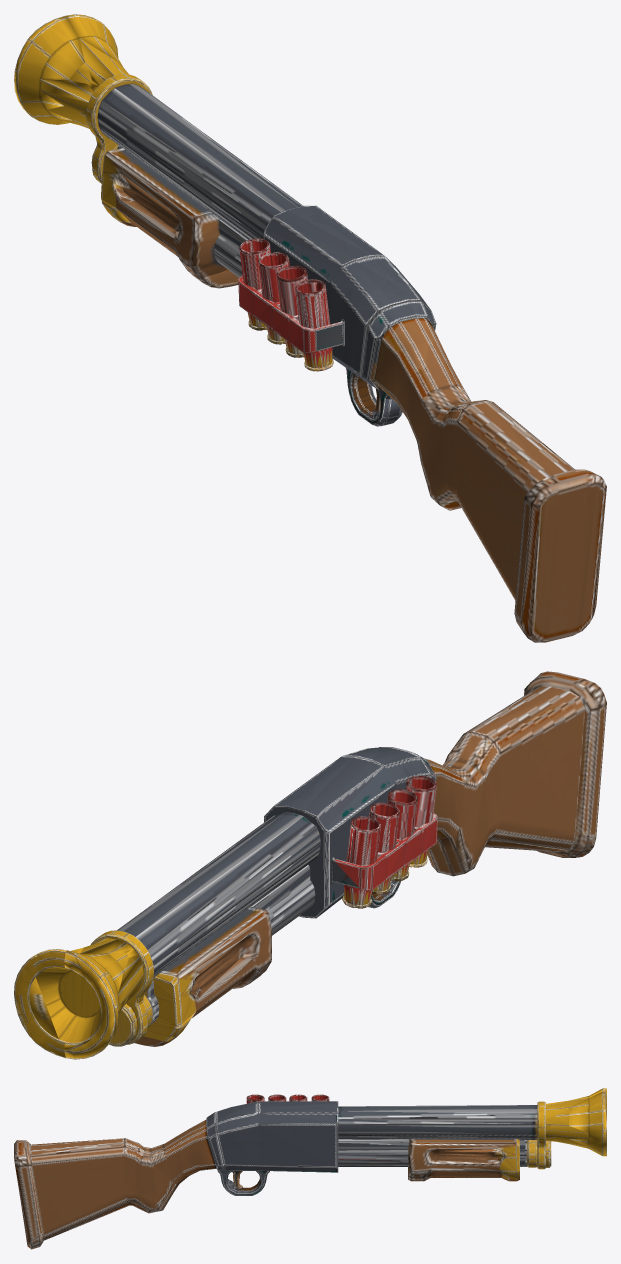
The model's file is fracas.glb.
The picture shows the model from 3 angles, top to bottom: view 1: azimuth 30°, elevation 25°; view 2: azimuth 150°, elevation 25°; view 3: azimuth 270°, elevation 25°; orthographic projection. The views are drawn at different scales.
Visible parts, largest first — view 1: Body, Pump; view 2: Body, Pump; view 3: Body, Pump.
Part boxes in pixels (x1,y1,x2,y2): Body: [14, 14, 606, 642]; Pump: [101, 135, 245, 288]; Body: [14, 671, 606, 1059]; Pump: [134, 870, 311, 1046]; Body: [14, 1088, 606, 1249]; Pump: [339, 1137, 537, 1181].
Size of the model in its own units: 0.1356 by 0.2845 by 1.
1 material, 1 textured.
